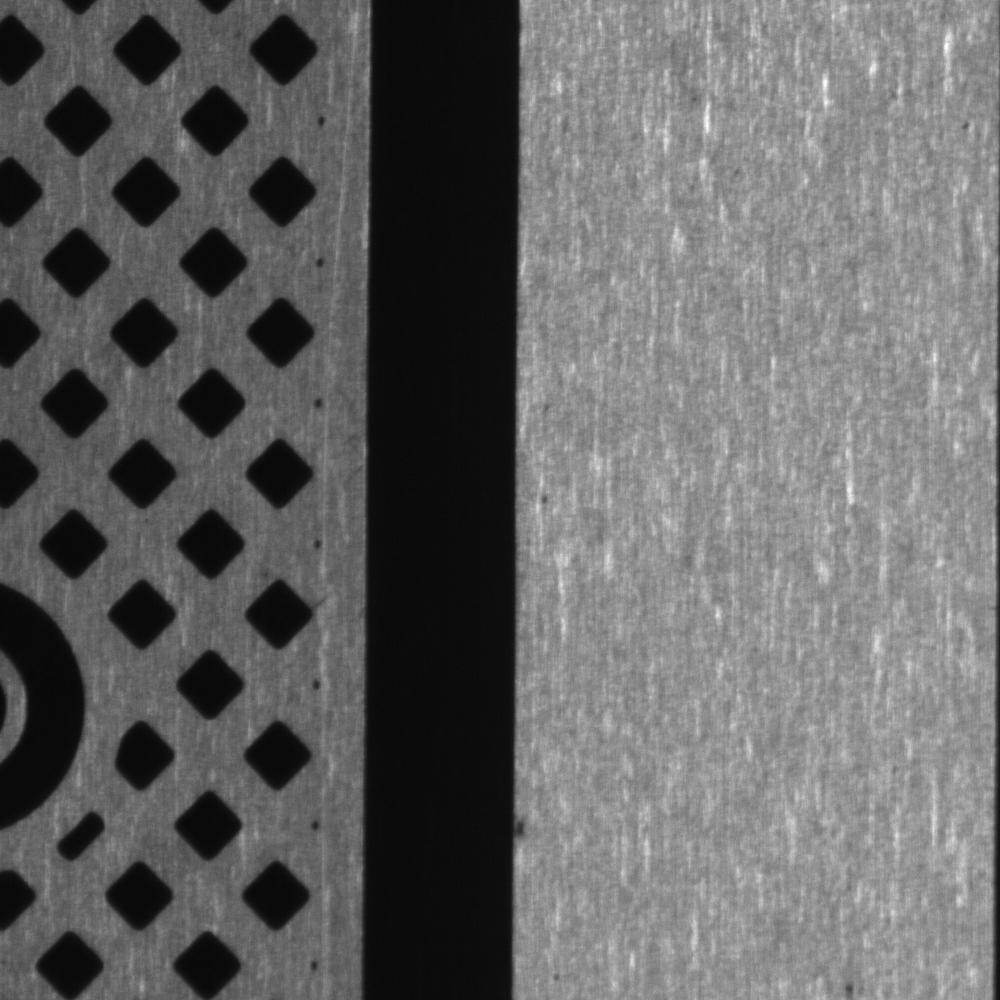Etching: (513, 796, 547, 856)
Pinhole: (530, 482, 561, 513)
